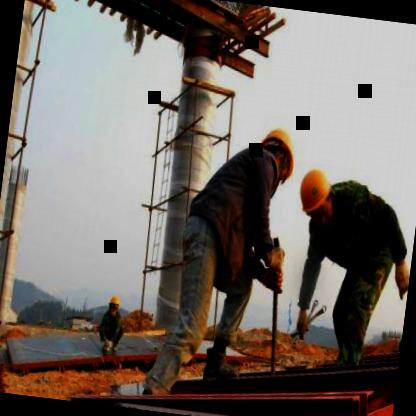helmet: (252, 124, 302, 198), (291, 161, 339, 231), (103, 293, 122, 317)
